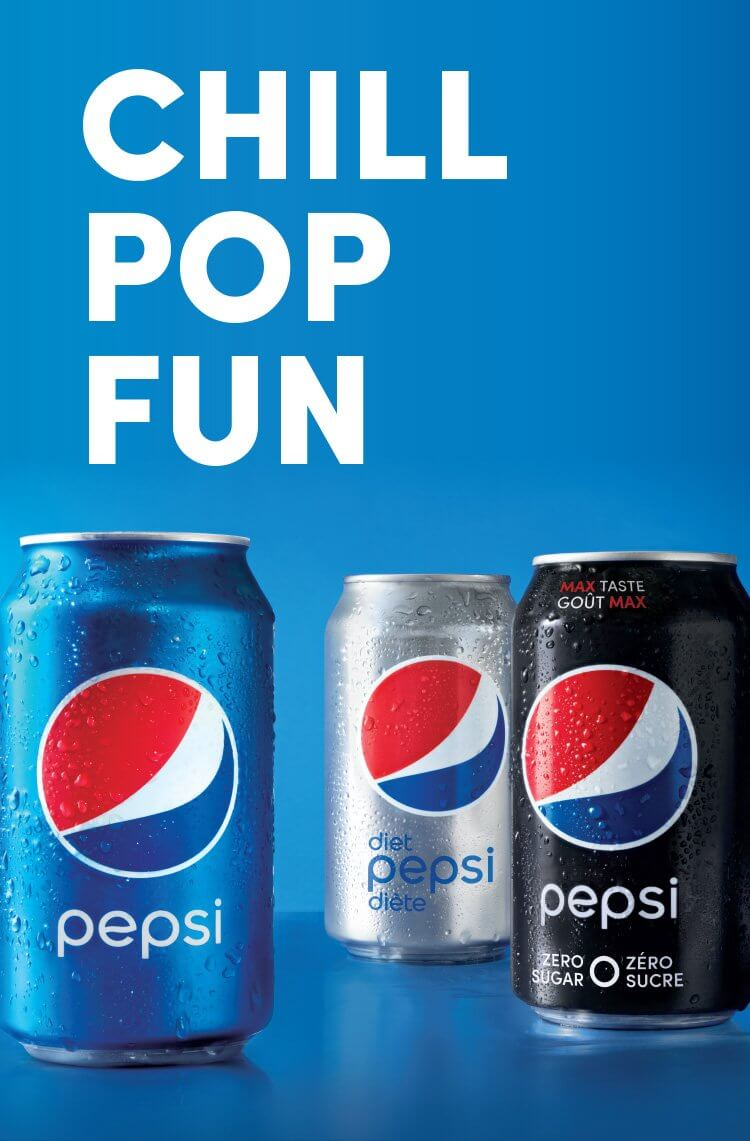pepsi: (43, 669, 238, 878), (524, 660, 692, 844), (364, 656, 505, 813)
